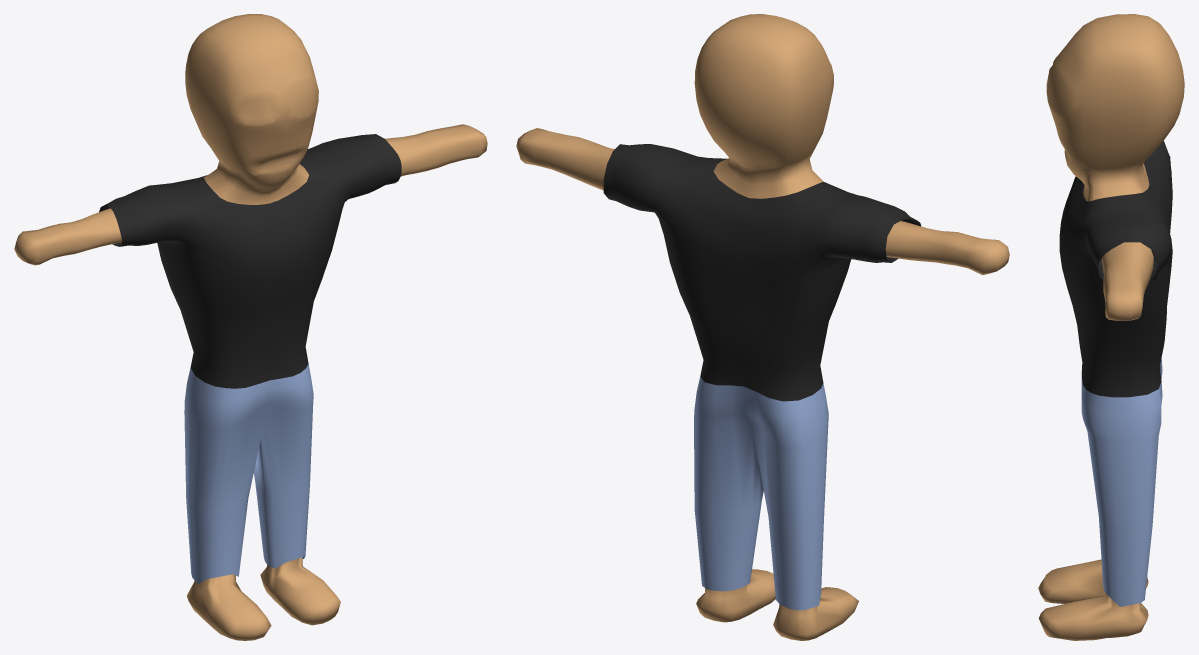
File: veninsan.fbx
3 renders of one model, left to right at view 1: azimuth 30°, elevation 25°; view 2: azimuth 150°, elevation 25°; view 3: azimuth 270°, elevation 25°, orthographic. The views are drawn at different scales.
Visible parts, largest first — view 1: vennn.005; view 2: vennn.005; view 3: vennn.005.
Part boxes in pixels (box(x1,y1,x2,y2)): vennn.005: box(14, 14, 487, 640); vennn.005: box(516, 14, 1009, 640); vennn.005: box(1038, 14, 1184, 640).
Bounding box in the file's own units: 883 × 1057 × 236.
